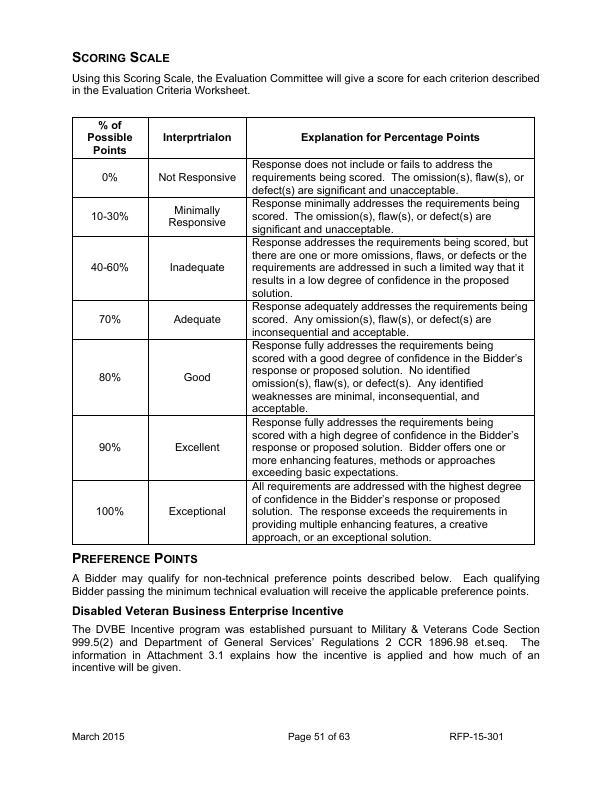table: (69, 115, 539, 547)
text: (71, 621, 546, 676), (69, 570, 546, 600), (70, 71, 544, 99), (70, 603, 349, 618), (70, 549, 200, 566), (68, 47, 171, 66)
